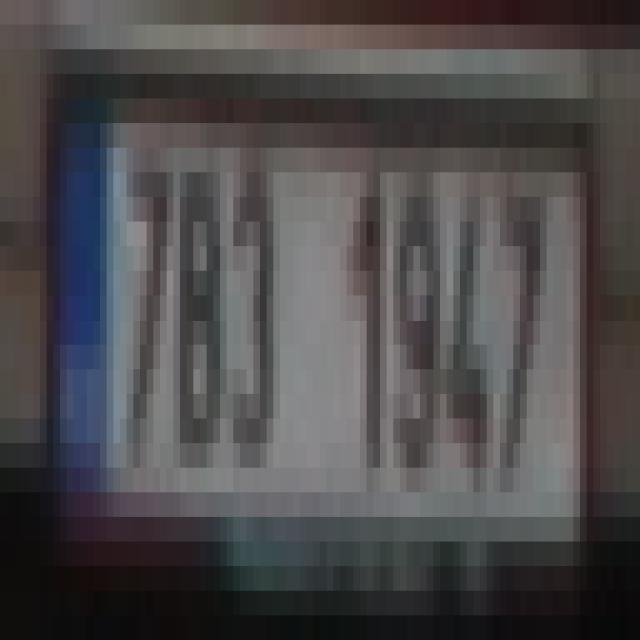1: (340, 172, 393, 443)
3: (233, 172, 280, 443)
4: (433, 197, 480, 492)
7: (493, 172, 560, 492), (113, 123, 160, 443)
9: (393, 172, 440, 443)
B: (180, 123, 220, 443)
